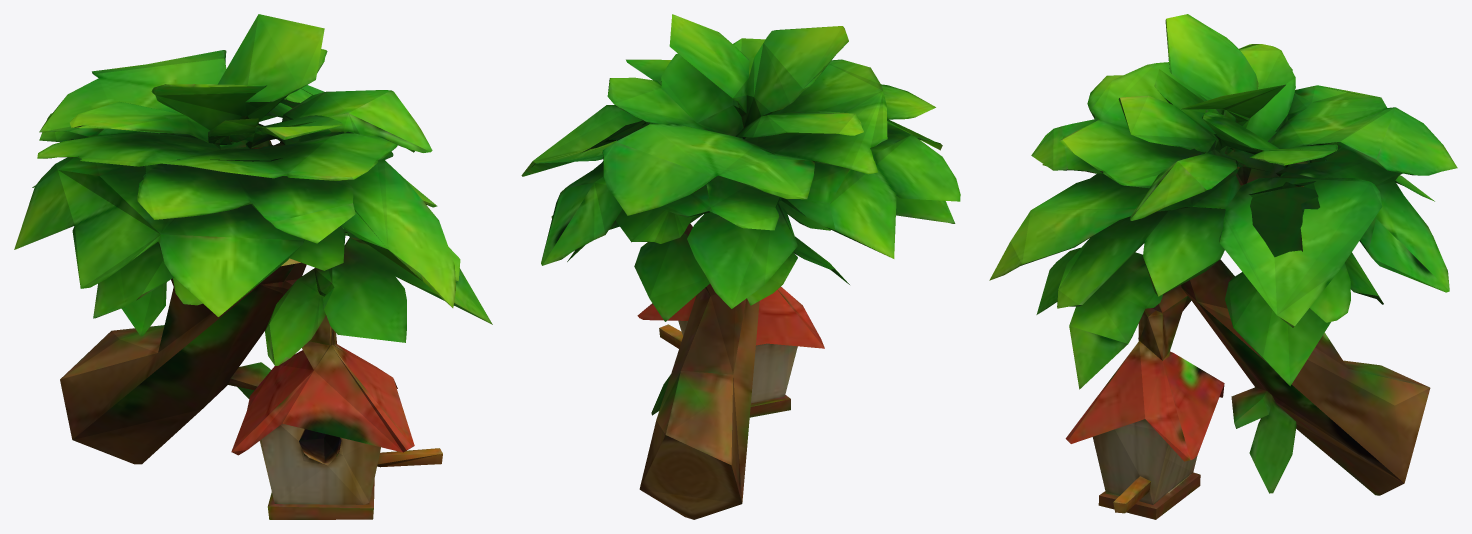
The model's file is d_canopee_feuillage.glb.
3 renders of one model, left to right at view 1: azimuth 30°, elevation 25°; view 2: azimuth 150°, elevation 25°; view 3: azimuth 270°, elevation 25°, orthographic. The views are drawn at different scales.
Parts seen in each view (by area): view 1: geometry_0; view 2: geometry_0; view 3: geometry_0.
Boxes of the visible parts, bbox=[...] form: geometry_0: bbox=[14, 14, 492, 519]; geometry_0: bbox=[521, 14, 960, 519]; geometry_0: bbox=[989, 14, 1457, 519].
Size of the model in its own units: 0.8992 by 1 by 0.9434.
Materials: 1 (1 with a texture image).
